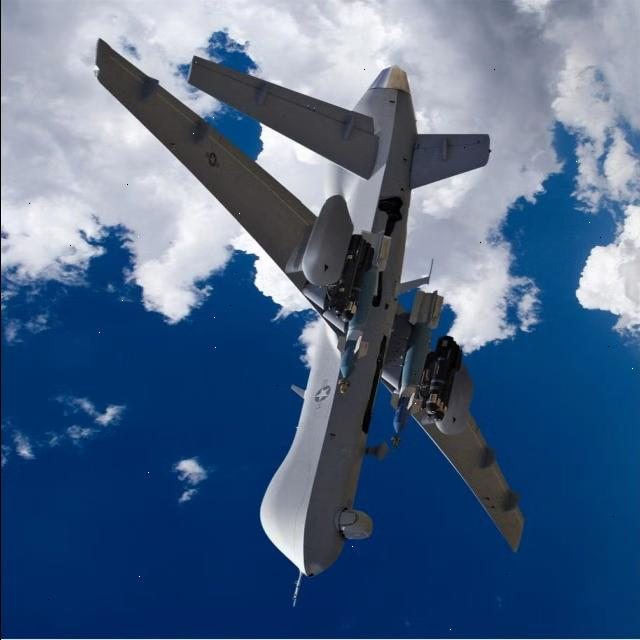MQ9: (59, 13, 546, 605)
